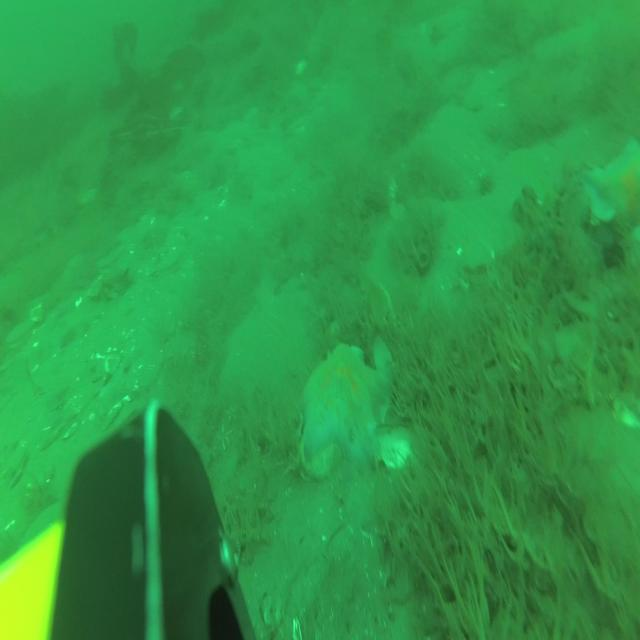scallop: (7, 318, 32, 353), (40, 417, 64, 449), (12, 444, 29, 484)
starfish: (303, 346, 395, 470), (585, 136, 640, 235)
